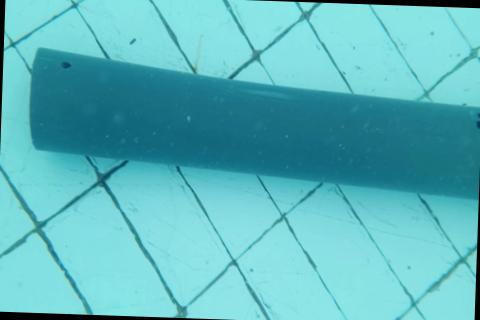kebocoran: (59, 60, 73, 70), (475, 111, 480, 131)
